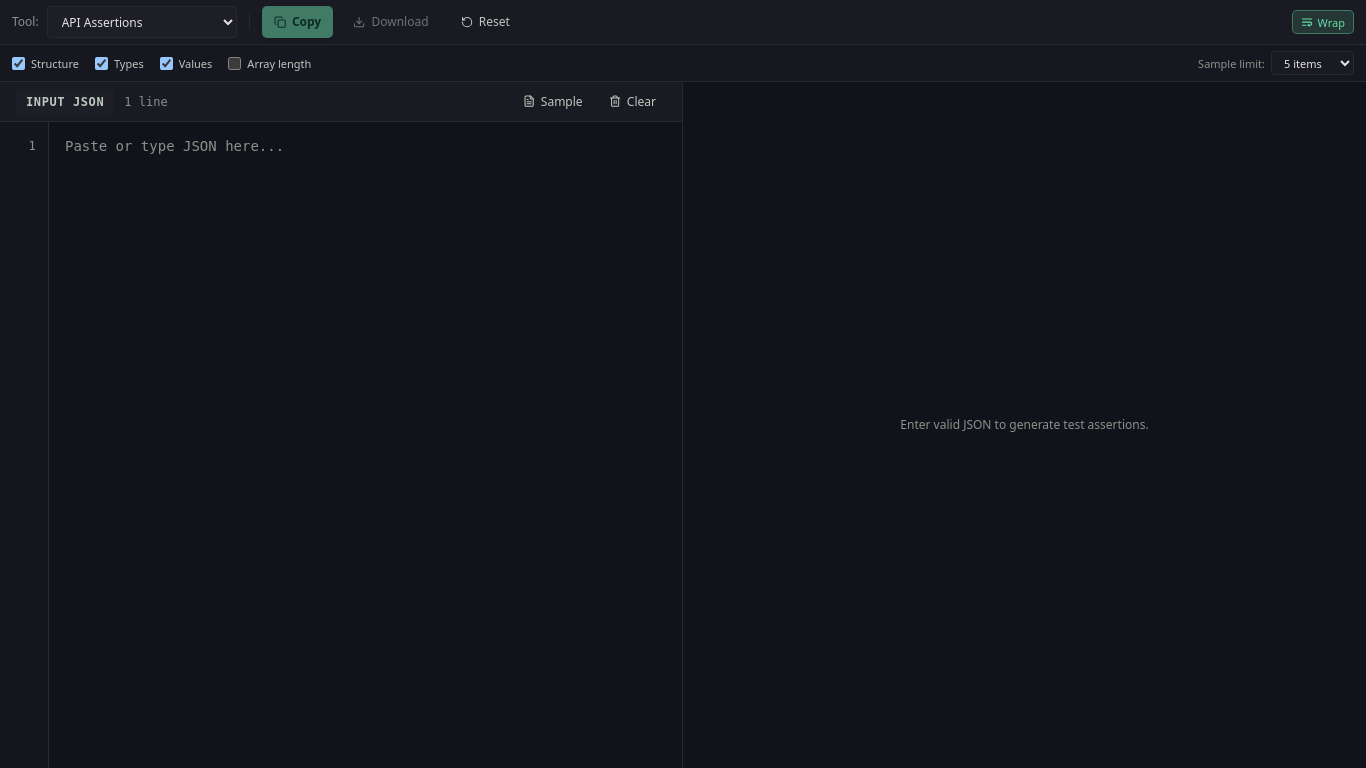
Test: Testing Feature Component Suite › switches tool to Generic Assertions and toggles options
The image size is (1366, 768).
Click the button with test id "testing-input-sample-btn" at (553, 102), box [513,89,593,114]
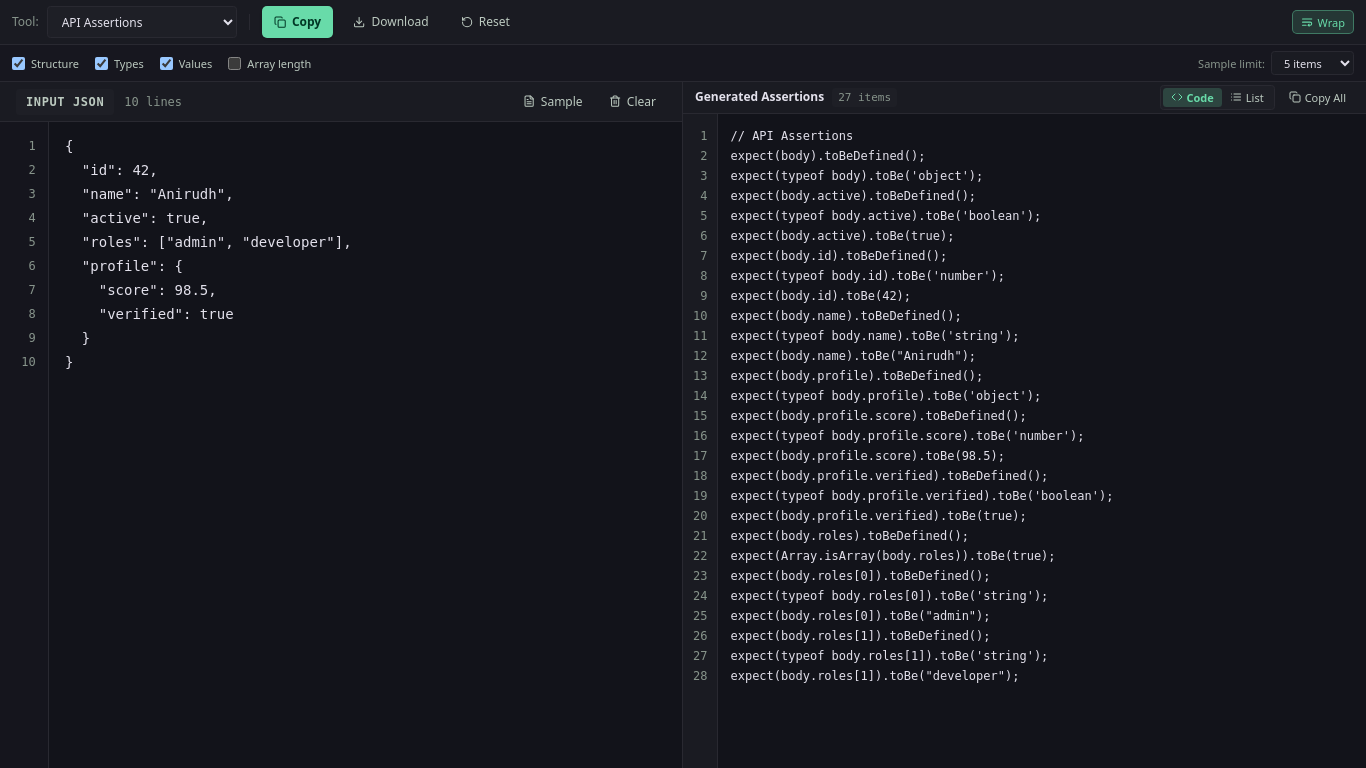
Select "Generic Test Assertions" in the dropdown with test id "testing-selector" at (142, 22), box [47,6,237,38]
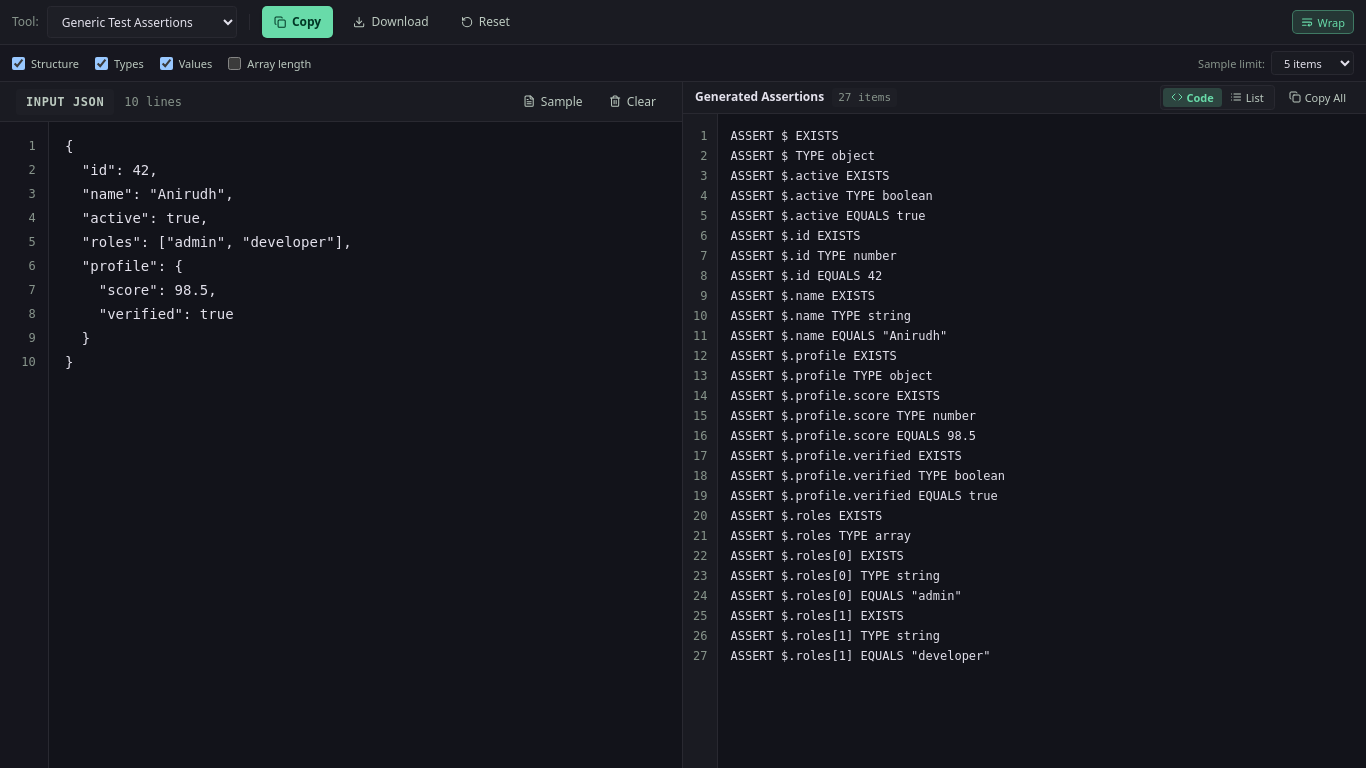
Now the element with test id "assertions-code-output" shows "ASSERT $.id EQUALS 42", box [730,128,1005,662]
# Toggle options
Click the checkbox with test id "opt-values" at (166, 63), box [160,56,173,70]
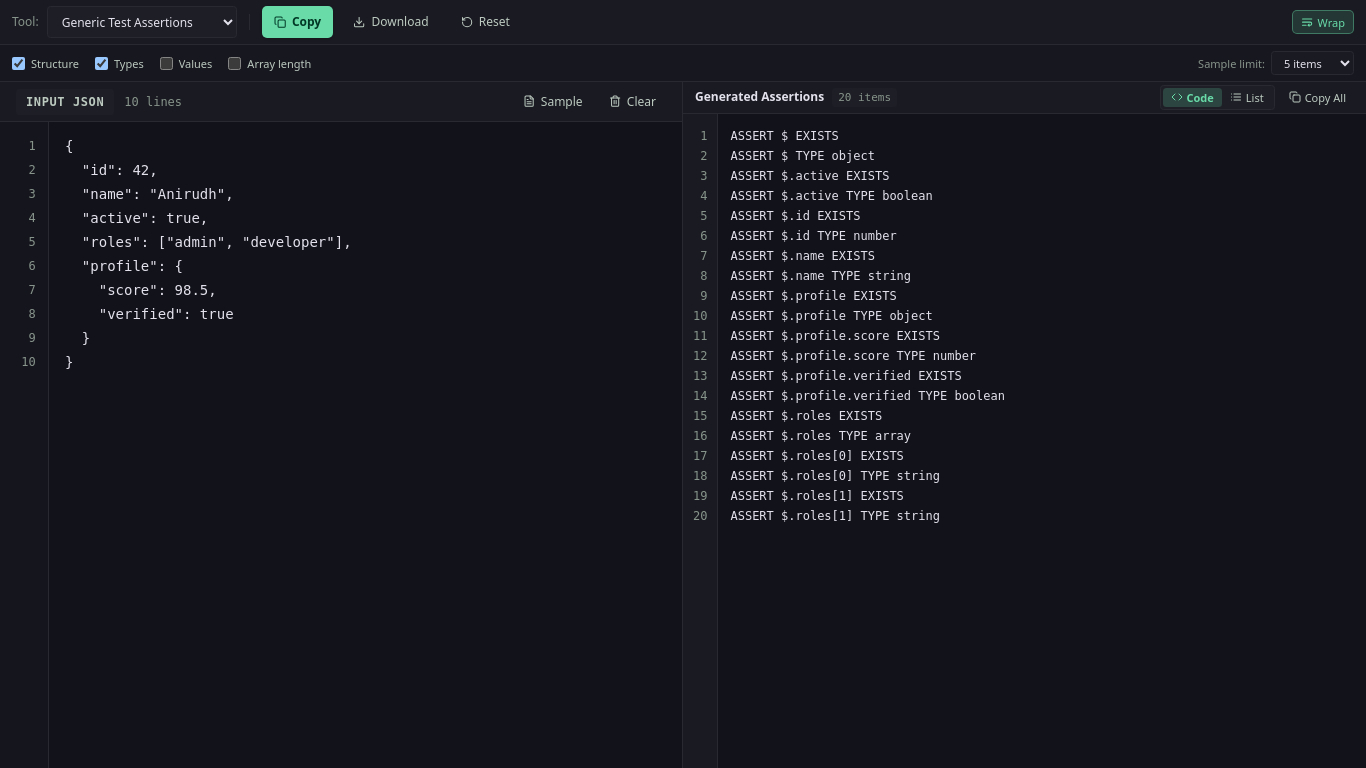
Now the text with test id "assertions-code-output" no longer shows "ASSERT $.id EQUALS 42"
